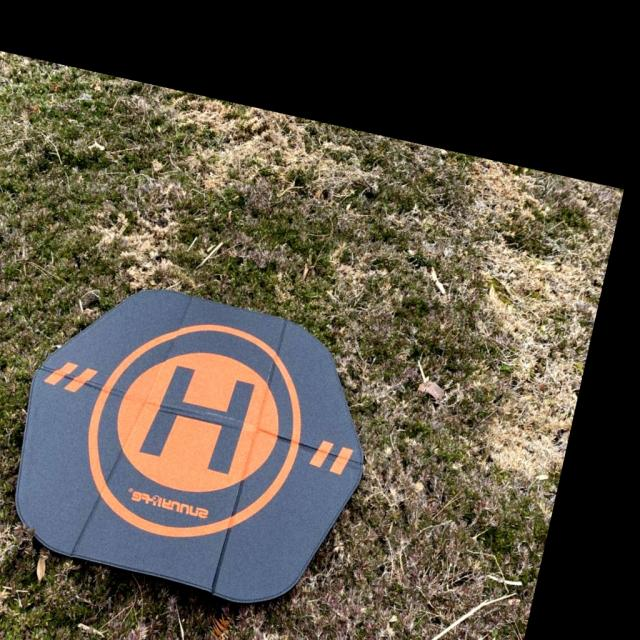helipad: (83, 318, 310, 544)
